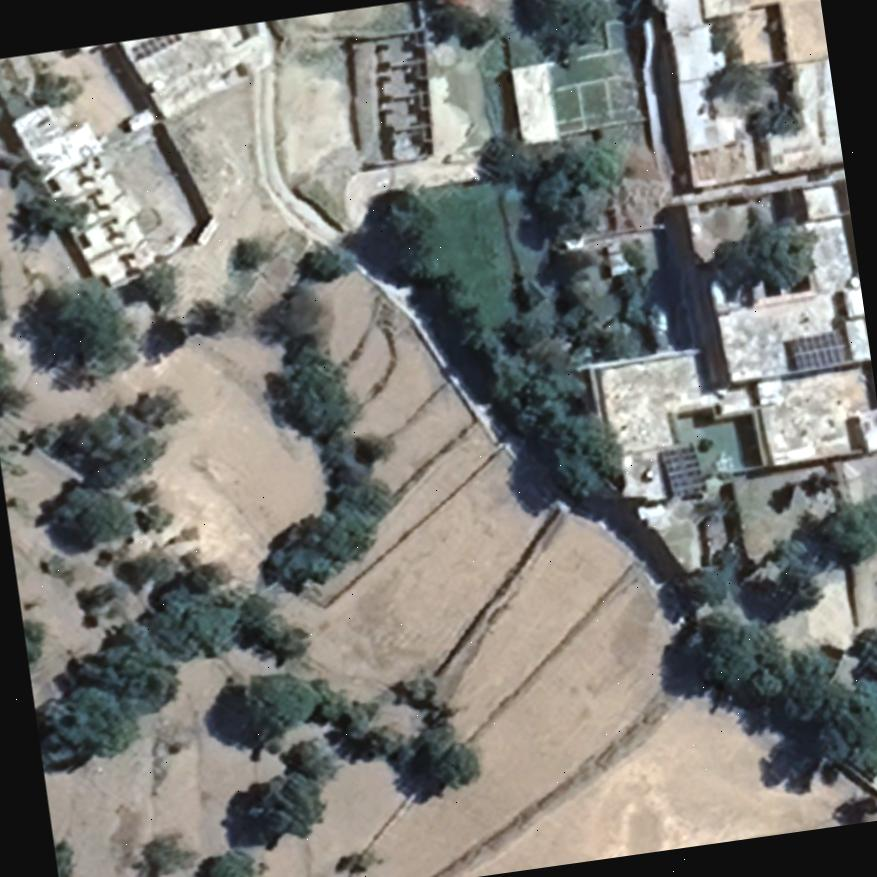Solarpanel: (784, 326, 854, 375), (658, 443, 705, 497)
